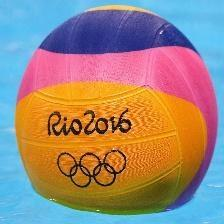Sports-Ball: (18, 5, 216, 217)
